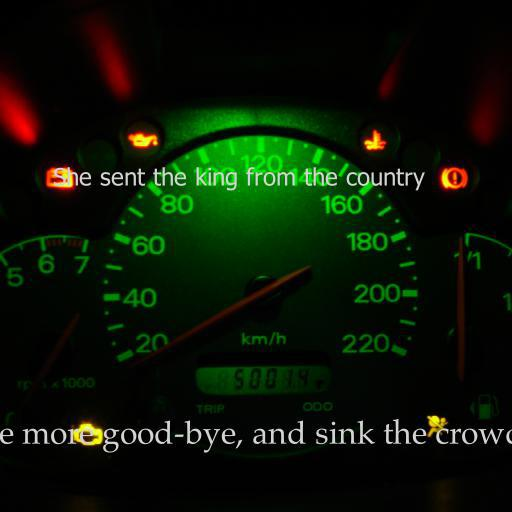Palatino: (0, 418, 512, 453)
Tahoma: (53, 167, 425, 191)
